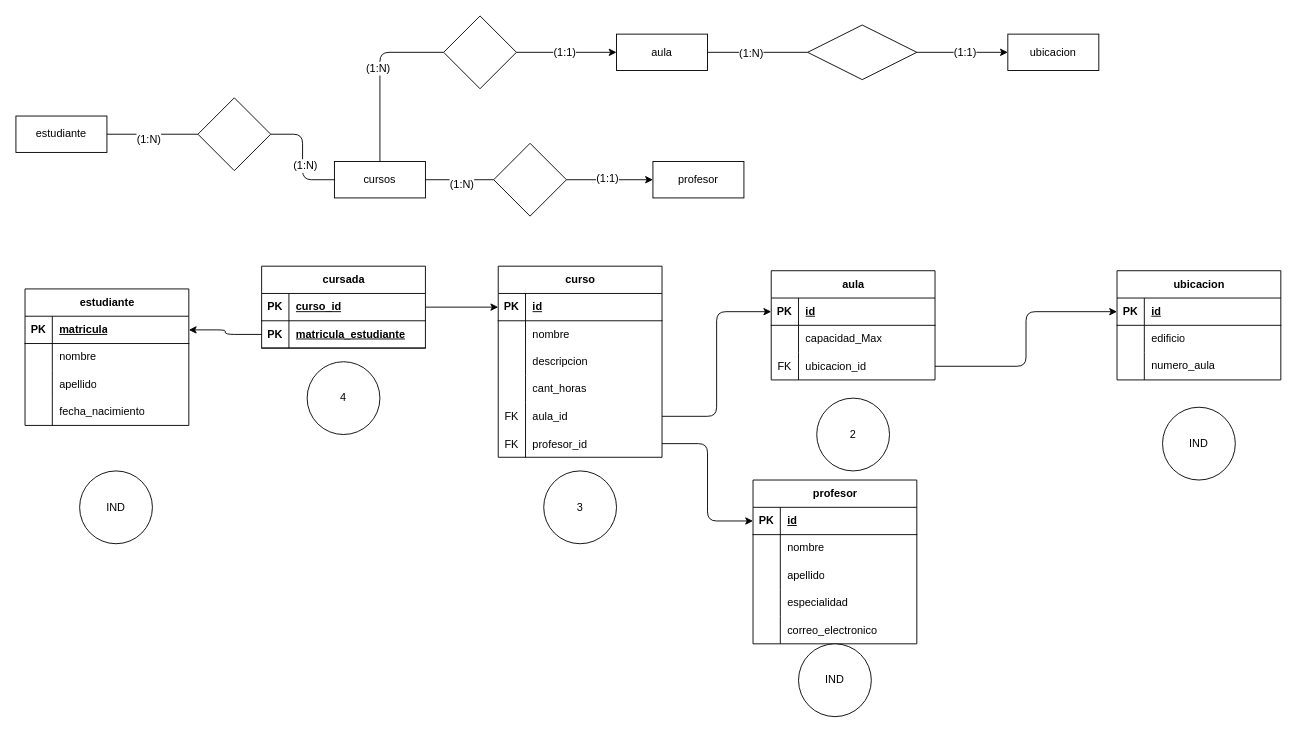
The diagram is 1297 pixels wide and 733 high, and some of its shapes have lost their labels. The centre of each missing label's shape, as x and y in pixels:
"cursa (N:N)" goes at point 234,134.
"dicta (N:1)" goes at point 529,179.
"pertenece (N:1)" goes at point 862,52.
"tiene (N:1)" goes at point 479,52.
